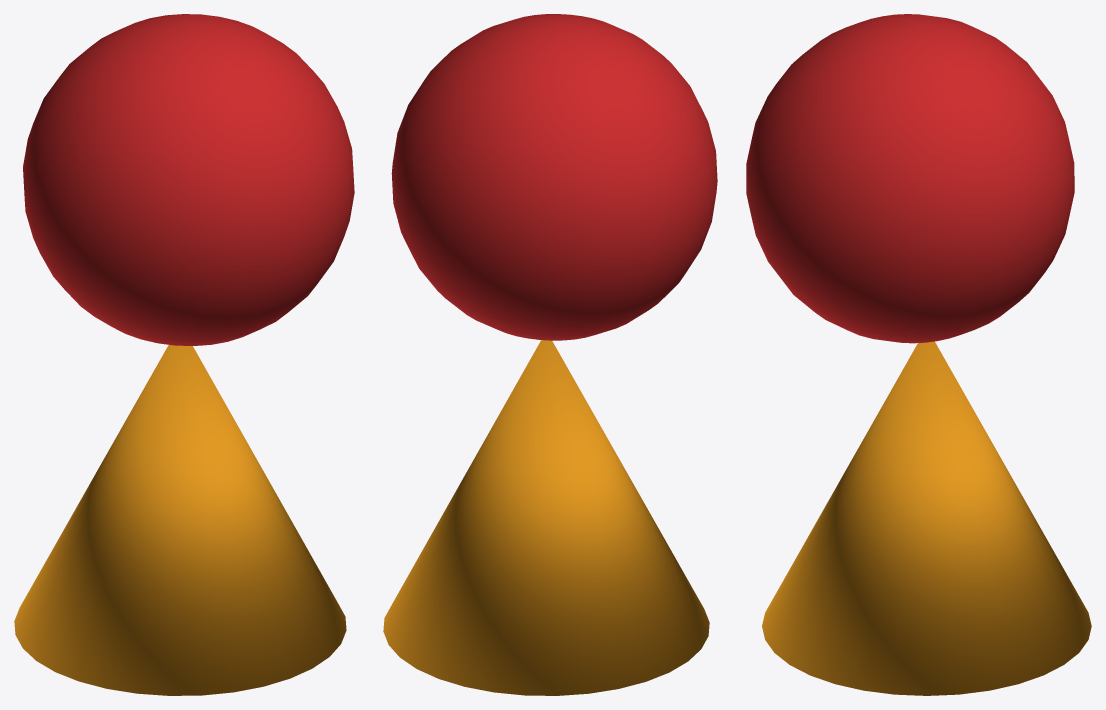
File: meta.glb
3 views of the same model, side by side, from view 1: azimuth 30°, elevation 25°; view 2: azimuth 150°, elevation 25°; view 3: azimuth 270°, elevation 25° (orthographic).
Visible parts, largest first — view 1: Sphere, Cone; view 2: Sphere, Cone; view 3: Sphere, Cone.
Part boxes in pixels (x1,y1,x2,y2): Sphere: [23, 14, 354, 345]; Cone: [14, 345, 346, 695]; Sphere: [391, 14, 717, 340]; Cone: [383, 340, 709, 695]; Sphere: [746, 14, 1074, 343]; Cone: [762, 341, 1091, 695].
Size of the model in its own units: 2 by 3.99 by 2.1.
